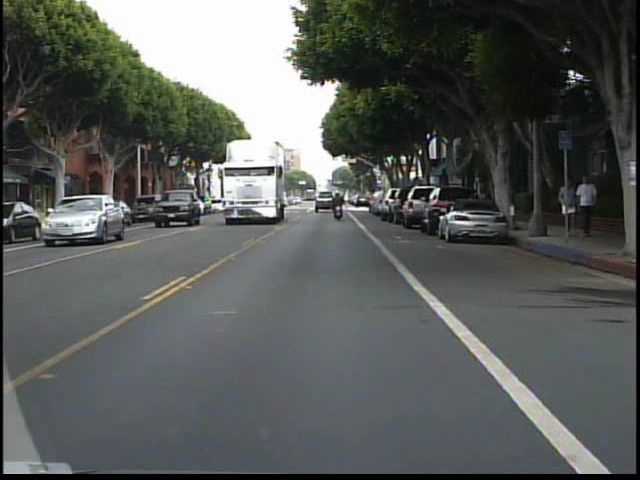person: (575, 171, 600, 236), (555, 175, 575, 236), (329, 189, 349, 221)
